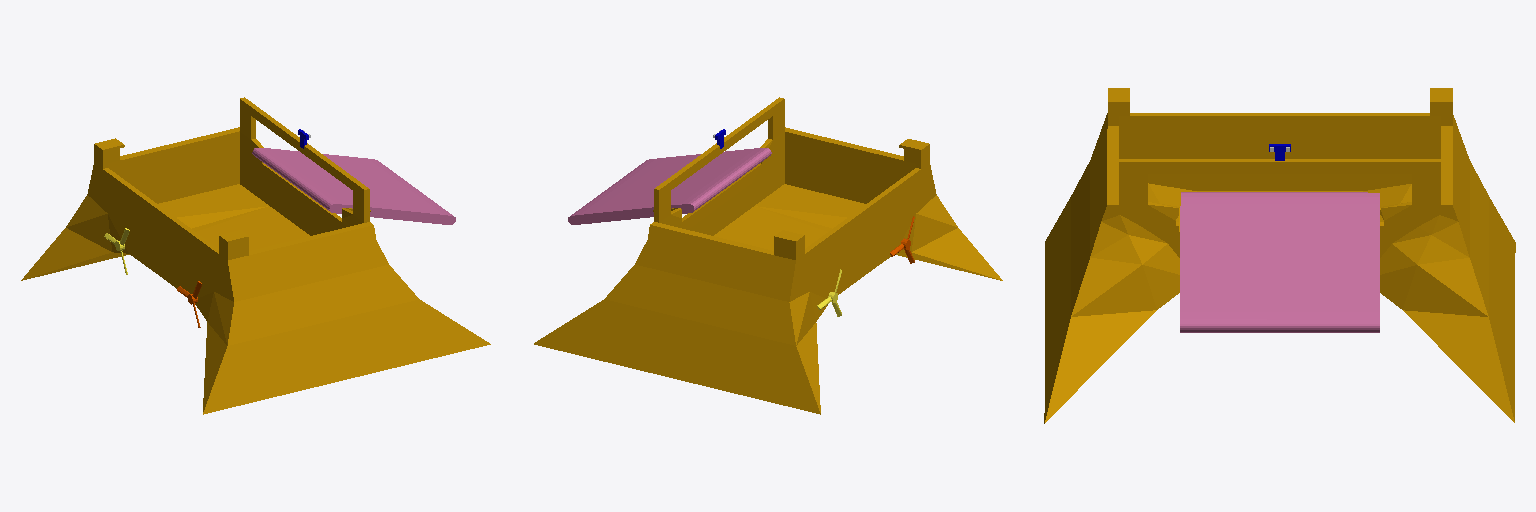
The robot description file, URDF, robot "WAM-V":
<?xml version="1.0" ?>
<!-- =================================================================================== -->
<!-- |    This document was autogenerated by xacro from [local-path]/vrx_ws/src/wamv_gazebo/urdf/wamv_gazebo.urdf.xacro | -->
<!-- |    EDITING THIS FILE BY HAND IS NOT RECOMMENDED                                 | -->
<!-- =================================================================================== -->
<!-- Basic WAM-V with gazebo plugins for dynamics -->
<robot name="WAM-V">
  <link name="wamv/body_link">
    <inertial>
      <origin rpy="0 -0 0" xyz="0 0 0"/>
      <inertia ixx="0.959311" ixy="0" ixz="0" iyy="3.198117" iyz="0" izz="3.813736"/>
      <mass value="40"/>
    </inertial>
    <visual>
      <origin rpy="0 -0 1.57" xyz="0 0 0"/>
      <geometry>
        <mesh filename="package://wamv_description/models/WAM-V-Base/mesh/base.dae"/>
      </geometry>
    </visual>
    <collision>
      <origin rpy="0 -0 1.57" xyz="0 0 0"/>
      <geometry>
        <mesh filename="package://wamv_description/models/WAM-V-Base/mesh/base.dae"/>
      </geometry>
    </collision>
  </link>
  <link name="wamv/base_link">
  </link>
  <joint name="wamv/dummy_joint" type="fixed">
    <parent link="wamv/base_link"/>
    <child link="wamv/body_link"/>
  </joint>


  <link name="wamv/left_engine_link">
    <!-- <visual>
      <geometry>
        <mesh filename="package://wamv_description/models/engine/mesh/engine.dae"/>
      </geometry>
    </visual> -->
    <collision name="left_engine_vertical_axis_collision">
      <origin rpy="0 0 0" xyz="0 0 0"/>
      <geometry>
        <box size="0.2 0.15 0.83"/>
      </geometry>
    </collision>
    <collision name="left_engine_rear_end_collision">
      <origin rpy="0 0 0" xyz="-0.34 0 0.12"/>
      <geometry>
        <box size="0.12 0.15 0.12"/>
      </geometry>
    </collision>
    <inertial>
      <mass value="15"/>
      <inertia ixx="0.889245" ixy="0.0" ixz="0.0" iyy="0.911125" iyz="0.0" izz="0.078125"/>
    </inertial>
  </link>
  <link name="wamv/left_propeller_link">
    <origin rpy="0 -0 1.57" xyz="0 0 0"/>
    <inertial>
      <origin rpy="0 -0 1.57" xyz="0 0 0"/>
      <inertia ixx="1" ixy="0" ixz="0" iyy="1" iyz="0" izz="1"/>
      <mass value=".1"/>
    </inertial>
    <mass value="0.1"/>
    <visual>
      <origin rpy="0 -0 1.57" xyz="0 0 0"/>
      <geometry>
        <mesh filename="package://wamv_description/models/WAM-V-Base/mesh/propeller.dae"/>
      </geometry>
    </visual>
    <collision>
      <origin rpy="0 -0 1.57" xyz="0 0 0"/>
      <geometry>
        <mesh filename="package://wamv_description/models/WAM-V-Base/mesh/propeller.dae"/>
      </geometry>
    </collision>
  </link>

  <joint name="wamv/left_chasis_engine_joint" type="revolute">
    <axis xyz="0 0 1"/>
    <limit effort="10" lower="0" upper="0" velocity="10"/>
    <origin rpy="0.0 0.0 0.0" xyz="-0.85 0.66 -0.2"/>
    <parent link="wamv/base_link"/>
    <child link="wamv/left_engine_link"/>
  </joint>
  <joint name="wamv/left_engine_propeller_joint" type="continuous">
    <axis rpy="0 0 0" xyz="1 0 0"/>
    <parent link="wamv/left_engine_link"/>
    <child link="wamv/left_propeller_link"/>
    <origin rpy="0 0 0" xyz="0 0 0"/>
    <limit effort="500" velocity="500"/>
    <dynamics damping="0.05" friction="0.05"/>
  </joint>



  <link name="wamv/right_engine_link">
    <!-- <visual>
      <geometry>
        <mesh filename="package://wamv_description/models/engine/mesh/engine.dae"/>
      </geometry>
    </visual> -->
    <collision name="right_engine_vertical_axis_collision">
      <origin rpy="0 0 0" xyz="-0.16 0 -0.24"/>
      <geometry>
        <box size="0.2 0.15 0.83"/>
      </geometry>
    </collision>
    <collision name="right_engine_rear_end_collision">
      <origin rpy="0 0 0" xyz="-0.34 0 0.12"/>
      <geometry>
        <box size="0.12 0.15 0.12"/>
      </geometry>
    </collision>
    <inertial>
      <mass value="15"/>
      <inertia ixx="0.889245" ixy="0.0" ixz="0.0" iyy="0.911125" iyz="0.0" izz="0.078125"/>
    </inertial>
  </link>
  <link name="wamv/right_propeller_link">
    <inertial>
      <origin rpy="0 -0 0" xyz="0 0 0"/>
      <inertia ixx="1" ixy="0" ixz="0" iyy="1" iyz="0" izz="1"/>
      <mass value=".1"/>
    </inertial>
    <visual>
      <origin rpy="0 -0 1.57" xyz="0 0 0"/>
      <geometry>
        <mesh filename="package://wamv_description/models/WAM-V-Base/mesh/propeller.dae"/>
      </geometry>
    </visual>
    <collision>
      <origin rpy="0 -0 1.57" xyz="0 0 0"/>
      <geometry>
        <mesh filename="package://wamv_description/models/WAM-V-Base/mesh/propeller.dae"/>
      </geometry>
    </collision>
  </link>

  <joint name="wamv/right_chasis_engine_joint" type="revolute">
    <axis xyz="0 0 1"/>
    <limit effort="0" lower="0" upper="0" velocity="0"/>
    <origin rpy="0.0 0.0 0.0" xyz="-0.85 -.7 -0.2"/>
    <parent link="wamv/base_link"/>
    <child link="wamv/right_engine_link"/>
  </joint>
  <joint name="wamv/right_engine_propeller_joint" type="continuous">
    <axis rpy="0 0 0" xyz="1 0 0"/>
    <parent link="wamv/right_engine_link"/>
    <child link="wamv/right_propeller_link"/>
    <origin rpy="0 0 0" xyz="0 0 0"/>
    <limit effort="200" velocity="200"/>
    <dynamics damping="0.05" friction="0.05"/>
  </joint>


  <!-- <link name="world" />

	<joint name="fixed_to_base" type="fixed">
		<parent link="wamv/body_link"/>
		<child link="world"/>
		<origin xyz="0.0 0.0 0.0" rpy="0.0 0.0 0"/>
	</joint> -->

  <joint name="fixed" type="fixed">
		<parent link="wamv/body_link"/>
		<child link="belt_visual"/>
		<origin xyz="0.0 0.0 .13" rpy="0.0 0.0 0"/>
	</joint>
	
	<link name="belt_visual">
		<inertial>
			<origin xyz="1.3 0 -0" rpy="0.32 0.0 1.57"/>
			<mass value=".01" />
			<inertia ixx="1" ixy="0" ixz="0" iyy="1" iyz="0" izz="1" />
		</inertial>
    <visual>
      <origin xyz="1.3 0 .05" rpy="0.32 0.0 1.57"/>
      <geometry>
        <mesh filename="package://wamv_description/models/WAM-V-Base/mesh/belt.dae"/>
      </geometry>
    </visual>
	</link>




	<!-- <joint name="belt_joint" type="prismatic">
		<origin xyz="1.6 0 .03" rpy="0.35 0.0 1.57"/>
		<parent link="world"/>
		<child link="belt_moving"/>
		<axis xyz="0 1 0"/>
		<limit lower="0.0" upper="1" effort="1000" velocity="1000"/>
	</joint> -->
  <joint name="belt_joint" type="prismatic">
		<origin xyz="1.6 0 .03" rpy="0.35 0.0 1.57"/>
		<parent link="wamv/base_link"/>
		<child link="belt_moving"/>
		<axis xyz="0 1 0"/>
		<limit lower="0.0" upper="1" effort="1000" velocity="1000"/>
	</joint>

	<link name="belt_moving">
		<inertial>
			<origin xyz="0.0 0.0 0.0" rpy="0 0.0 0.0"/>
			<mass value=".0001"/>
			<inertia ixx="0.0" ixy="0.0" ixz="0.0" iyy="0.0" iyz="0.0" izz="0.0"/>
		</inertial>
		<collision>
			<origin xyz="0.0 0.0 0.0" rpy="0 0.0 0.0"/>
			<geometry>
				<box size="1 1.2 0.1"/>
			</geometry>
		</collision>
	</link>

  <gazebo reference="belt_moving">
    <collision>
      <surface>
        <friction>
          <ode>
            <mu>1</mu>
            <mu2>1</mu2>
            <slip1>0</slip1>
            <slip2>0</slip2>
          </ode>
        </friction>
      </surface>
    </collision>
  </gazebo>

	<!-- <gazebo>
		<plugin name="conveyor_belt_plugin" filename="libROSConveyorBeltPlugin.so">
			<robot_namespace>/</robot_namespace>
			<link>belt_moving</link>
			<power>20</power>
			<max_velocity>1.0</max_velocity>
		</plugin>
	</gazebo> -->


  <gazebo>
    <plugin filename="libusv_gazebo_thrust_plugin.so" name="wamv_gazebo_thrust">
      <cmdTimeout>1.0</cmdTimeout>
      <robotNamespace>wamv</robotNamespace>
      <thruster>
        <!-- Required Parameters -->
        <linkName>wamv/left_propeller_link</linkName>
        <propJointName>wamv/left_engine_propeller_joint</propJointName>
        <engineJointName>wamv/left_chasis_engine_joint</engineJointName>
        <cmdTopic>thrusters/left_thrust_cmd</cmdTopic>
        <angleTopic>thrusters/left_thrust_angle</angleTopic>
        <enableAngle>False</enableAngle>
        <!-- Optional Parameters -->
        <mappingType>1</mappingType>
        <maxCmd>1.0</maxCmd>
        <maxForceFwd>1050.0</maxForceFwd>
        <maxForceRev>-150.0</maxForceRev>
        <maxAngle>0</maxAngle>
      </thruster>
      <thruster>
        <!-- Required Parameters -->
        <linkName>wamv/right_propeller_link</linkName>
        <propJointName>wamv/right_engine_propeller_joint</propJointName>
        <engineJointName>wamv/right_chasis_engine_joint</engineJointName>
        <cmdTopic>thrusters/right_thrust_cmd</cmdTopic>
        <angleTopic>thrusters/right_thrust_angle</angleTopic>
        <enableAngle>True</enableAngle>
        <!-- Optional Parameters -->
        <mappingType>1</mappingType>
        <maxCmd>1.0</maxCmd>
        <maxForceFwd>1050.0</maxForceFwd>
        <maxForceRev>-1050.0</maxForceRev>
        <maxAngle>0</maxAngle>
      </thruster>
    </plugin>
  </gazebo>

  <!--Gazebo Plugin for simulating WAM-V dynamics-->
  <gazebo>
    <plugin filename="libusv_gazebo_dynamics_plugin.so" name="usv_dynamics_wamv_dynamics_plugin">
      <bodyName>wamv/base_link</bodyName>
      <!-- Must be same as the ocean model!-->
      <waterLevel>0</waterLevel>
      <waterDensity>997.8</waterDensity>
      <!-- Added mass -->
      <xDotU>0.0</xDotU>
      <yDotV>0.0</yDotV>
      <nDotR>0.0</nDotR>
      <!-- Linear and quadratic drag -->
      <xU>51.3</xU>
      <xUU>72.4</xUU>
      <yV>40.0</yV>
      <yVV>0.0</yVV>
      <zW>500.0</zW>
      <kP>50.0</kP>
      <mQ>50.0</mQ>
      <nR>400.0</nR>
      <nRR>0.0</nRR>
      <!-- General dimensions -->
      <!--<boatArea>2.2</boatArea>-->
      <hullRadius>0.213</hullRadius>
      <boatWidth>2.4</boatWidth>
      <boatLength>4.9</boatLength>
      <!-- Length discretization, AKA, "N" -->
      <length_n>2</length_n>
      <!-- Wave model -->
      <wave_model>ocean_waves</wave_model>
    </plugin>
  </gazebo>



  <link name="wamv/gps_wamv_link">
    <collision name="gps_wamv_collision_base">
      <origin rpy="0 0 0" xyz="0 0 0.025"/>
      <geometry>
        <cylinder length="0.05" radius="0.015"/>
      </geometry>
    </collision>
    <collision name="gps_wamv_collision_antenna">
      <origin rpy="0 0 0" xyz="0 0 0.11"/>
      <geometry>
        <cylinder length="0.1" radius="0.15"/>
      </geometry>
    </collision>
    <inertial>
      <mass value="1"/>
      <inertia ixx="0.006458" ixy="0.0" ixz="0.0" iyy="0.006458" iyz="0.0" izz="0.01125"/>
    </inertial>
  </link>
  <joint name="wamv/gps_wamv_joint" type="revolute">
    <axis xyz="0 0 1"/>
    <limit effort="1000.0" lower="0.0" upper="0" velocity="0"/>
    <origin rpy="0 0 0" xyz="-0.85 0 1.3"/>
    <parent link="wamv/base_link"/>
    <child link="wamv/gps_wamv_link"/>
  </joint>

  <gazebo>
    <plugin filename="libhector_gazebo_ros_gps.so" name="gps_plugin_gps_wamv">
      <updateRate>15</updateRate>
      <alwaysOn>true</alwaysOn>
      <bodyName>wamv/gps_wamv_link</bodyName>
      <!-- Manually prepend namespace to tf frame. -->
      <frameId>wamv/gps_wamv_link</frameId>
      <topicName>wamv/sensors/gps/gps/fix</topicName>
      <!-- Note that the hector_gazebo_ros_gps plugin uses NWU coordinates
             for reporting velocities.  This may cause problems if localization
             requires velocity in ENU.
             See Issue #64 in VRX project for details
             https://bitbucket.org/osrf/vrx/issues/64 -->
      <velocityTopicName>wamv/sensors/gps/gps/fix_velocity</velocityTopicName>
      <!-- Location of origin of Gazebo Sand Island map -->
      <referenceLatitude>-33.724223</referenceLatitude>
      <referenceLongitude>150.679736</referenceLongitude>
      <referenceAltitude>0.0</referenceAltitude>
      <referenceHeading>270</referenceHeading>
      <offset>0.0 0.0 0.0</offset>
      <drift>0.0 0.0 0.0</drift>
      <gaussianNoise>0 0 0</gaussianNoise>
      <velocityOffset>0.0 0.0 0.0</velocityOffset>
      <velocityDrift>0.0 0.0 0.0</velocityDrift>
      <velocityGaussianNoise>0.0 0.0 0.0</velocityGaussianNoise>
    </plugin>
  </gazebo>



  <link name="wamv/imu_wamv_link">
    <inertial>
      <mass value="0.1"/>
      <inertia ixx="1" ixy="0.0" ixz="0.0" iyy="1" iyz="0.0" izz="1"/>
    </inertial>
  </link>
  <joint name="wamv/imu_wamv_joint" type="fixed">
    <axis xyz="0 0 1"/>
    <limit effort="1000.0" lower="0.0" upper="0" velocity="0"/>
    <origin rpy="0 0 0" xyz="0.3 -0.2 1.3"/>
    <parent link="wamv/base_link"/>
    <child link="wamv/imu_wamv_link"/>
  </joint>

  <gazebo>
    <plugin filename="libhector_gazebo_ros_imu.so" name="imu_plugin_imu_wamv">
      <updateRate>15</updateRate>
      <bodyName>wamv/imu_wamv_link</bodyName>
      <topicName>wamv/sensors/imu/imu/data</topicName>
      <serviceName>wamv/sensors/imu_service</serviceName>
      <!-- Manually prepend namespace to tf frame. -->
      <frameId>wamv/imu_wamv_link</frameId>
      <alwaysOn>true</alwaysOn>
      <accelOffset>0.0 0.0 0.0</accelOffset>
      <accelDrift>0.0 0.0 0.0</accelDrift>
      <accelDriftFrequency>0.000 0.000 0.0000</accelDriftFrequency>
      <accelGaussianNoise>0.0 0.0 0.0</accelGaussianNoise>
      <rateOffset>0.0 0.0 0.0</rateOffset>
      <rateDrift>0.0 0.0 0.0</rateDrift>
      <rateDriftFrequency>0.000 0.000 0.0000</rateDriftFrequency>
      <rateGaussianNoise>0.0 0.0 0.0</rateGaussianNoise>
      <yawOffset>0.0</yawOffset>
      <yawDrift>0.0</yawDrift>
      <yawDriftFrequency>0.000</yawDriftFrequency>
      <yawGaussianNoise>0.0</yawGaussianNoise>
    </plugin>
  </gazebo>


  <!-- 3d lidar sensor -->
  <link name="wamv/lidar_wamv_link">
    <visual name="lidar_wamv_visual">
      <origin rpy="0 0 0" xyz="0 0 0"/>
      <geometry>
        <mesh filename="package://wamv_description/models/WAM-V-Base/mesh/sensor.dae"/>
      </geometry>
    </visual>
    <collision name="lidar_wamv_collision">
      <geometry>
        <cylinder length="0.075" radius="0.055"/>
      </geometry>
    </collision>
    <inertial>
      <mass value="1"/>
      <inertia ixx="0.00109375" ixy="0" ixz="0" iyy="0.00109375" iyz="0" izz="0.00125"/>
    </inertial>
  </link>
  <!-- Sensor base_link to lidar joint -->
  <joint name="wamv/lidar_wamv_post_arm_to_lidar_wamv_joint" type="fixed">
    <origin rpy="0 0 1.57" xyz="0.751596 0 0.785158"/>
    <parent link="wamv/base_link"/>
    <child link="wamv/lidar_wamv_link"/>
  </joint>

  <gazebo reference="wamv/lidar_wamv_link">
    <sensor name="lidar_wamv_sensor" type="gpu_ray">
      <update_rate>10</update_rate>
      <ray>
        <scan>
          <horizontal>
            <samples>18750.0</samples>
            <resolution>0.1</resolution>
            <min_angle>-3.141592653589793</min_angle>
            <max_angle>3.141592653589793</max_angle>
          </horizontal>
          <vertical>
            <samples>16</samples>
            <resolution>1</resolution>
            <min_angle>-0.2617993877991494</min_angle>
            <max_angle>0.2617993877991494</max_angle>
          </vertical>
        </scan>
        <range>
          <min>0.1</min>
          <max>13</max>
        </range>
        <noise>
          <type>gaussian</type>
          <mean>0.0</mean>
          <stddev>0.01</stddev>
        </noise>
      </ray>
      <plugin filename="libgazebo_ros_velodyne_gpu_laser.so" name="lidar_wamv_plugin">
        <topicName>wamv/sensors/lidars/lidar_wamv/points</topicName>
        <frameName>wamv/lidar_wamv_link</frameName>
        <min_intensity>0</min_intensity>
      </plugin>
    </sensor>
  </gazebo>

  <!-- Set color of post -->
  <gazebo reference="wamv/lidar_wamv_post_link">
    <material>Gazebo/Black</material>
  </gazebo>
  <!--specs for 16 beam lidar are implemented by default.
          See wamv_3d_lidar for those-->

</robot>

--- Facts derived from the render (not from the file) ---
The picture shows the robot from 3 angles, left to right: view 1: azimuth 30°, elevation 25°; view 2: azimuth 150°, elevation 25°; view 3: azimuth 270°, elevation 25°; orthographic projection.
Robot: WAM-V — 11 links, 10 joints (3 revolute, 2 continuous, 1 prismatic, 4 fixed); root link wamv/base_link; default pose: every joint at zero.
Visible links, largest first — view 1: wamv/body_link, belt_visual; view 2: wamv/body_link, belt_visual; view 3: wamv/body_link, belt_visual.
Link boxes in pixels (x1,y1,x2,y2): wamv/body_link: (21,97,490,414); belt_visual: (252,148,455,224); wamv/body_link: (534,97,1002,414); belt_visual: (568,148,771,224); wamv/body_link: (1044,88,1515,423); belt_visual: (1180,192,1379,332).
Bounding box of the posed robot: 3.31 × 3.42 × 1.74 m (x, y, z).
Meshes: 4 distinct files referenced, 5 mesh visuals loaded (4 Collada DAE).